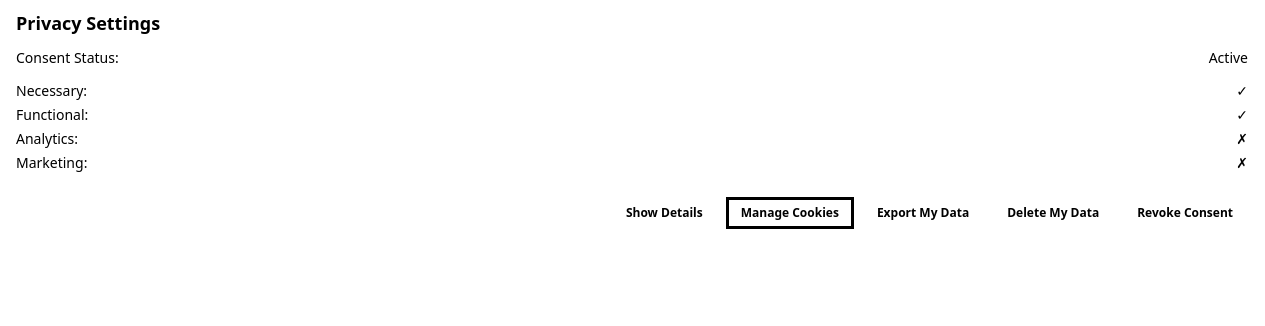
Test: PrivacyControls › Expanded View › should show detailed information when expanded
The image size is (1265, 326).
Click the button "Show Details" at x=664, y=213, box [611,197,718,229]
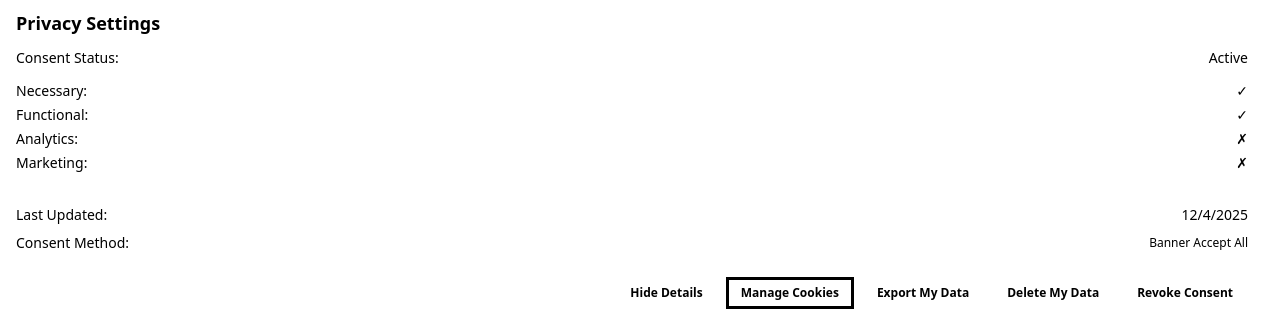
expect the text "Last Updated:" is shown: met, box [16,205,107,225]
expect the text "Consent Method:" is shown: met, box [16,233,129,253]
